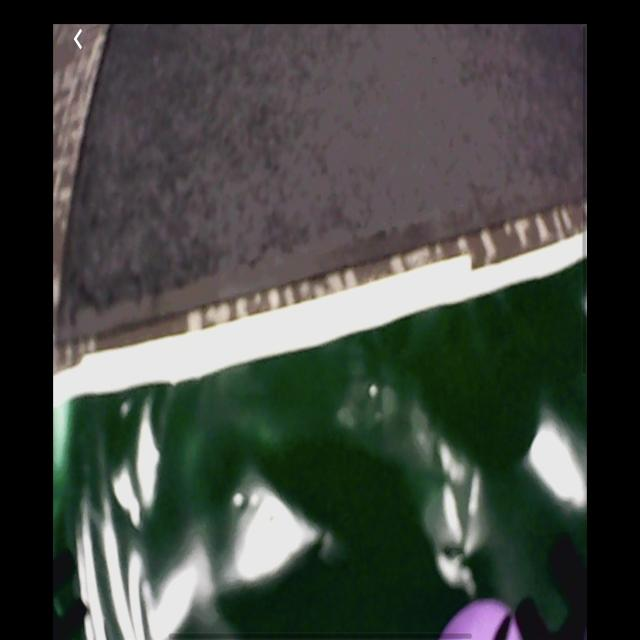ball: (435, 602, 526, 640)
